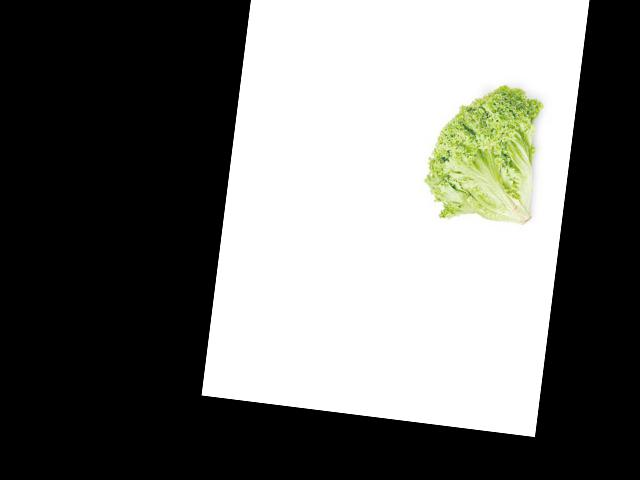lettuce: (415, 102, 553, 207)
